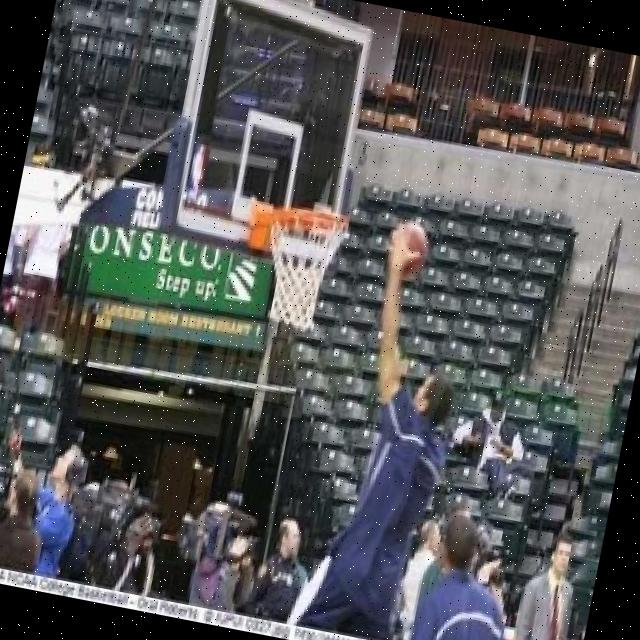ball: (387, 218, 432, 272)
